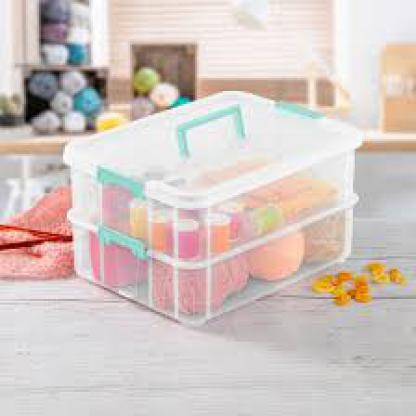plastic_box: (48, 48, 377, 334)
